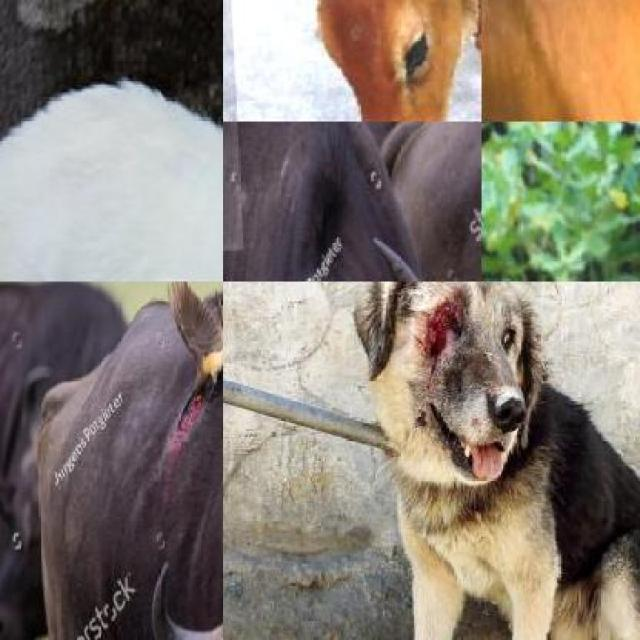cat: (0, 69, 223, 282)
cow: (223, 0, 482, 122), (481, 121, 640, 281), (481, 0, 640, 121)
dog: (340, 281, 640, 640)
injured: (157, 328, 223, 498), (416, 282, 472, 412)
